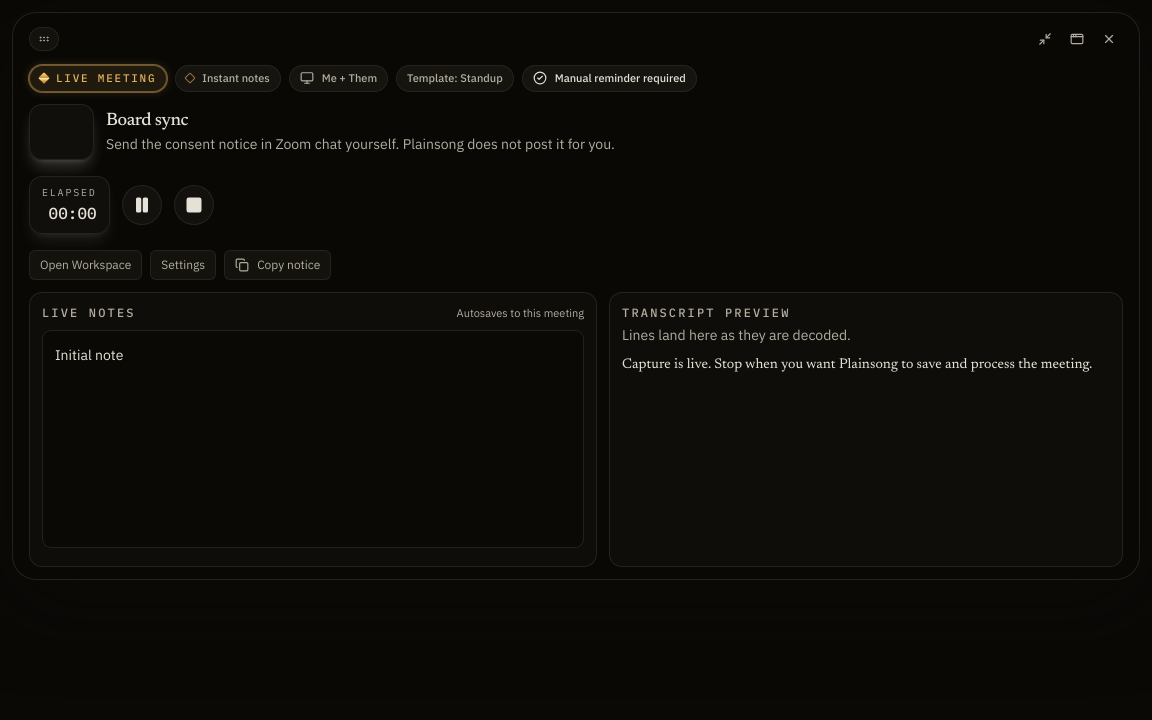
Test case: RecordingPopup › surfaces a Stop failure without losing the active recording
This screenshot has width=1152, height=720.
Expected: the text "Board sync" is shown, [106,112,188,130]
Click the button named "Stop recording": (194,204) [174,184,214,224]
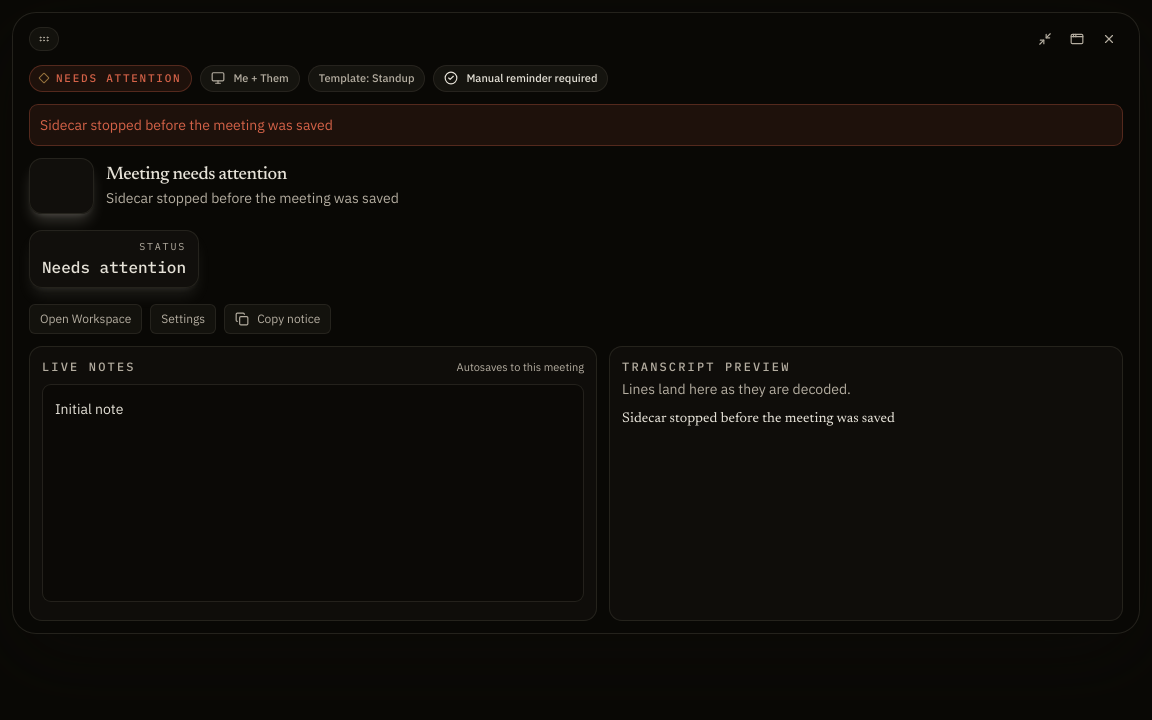
Expected: the button "Open Workspace" is shown, [29,304,142,334]
Now the message reads "Sidecar stopped before the meeting was saved", box [40,116,333,134]
